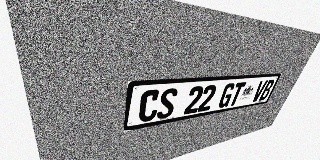2: (183, 85, 205, 115), (197, 84, 218, 112)
B: (258, 80, 275, 101)
C: (138, 89, 161, 123)
G: (217, 83, 237, 108)
S: (156, 88, 179, 120)
T: (227, 82, 246, 106)
V: (251, 80, 268, 102)
